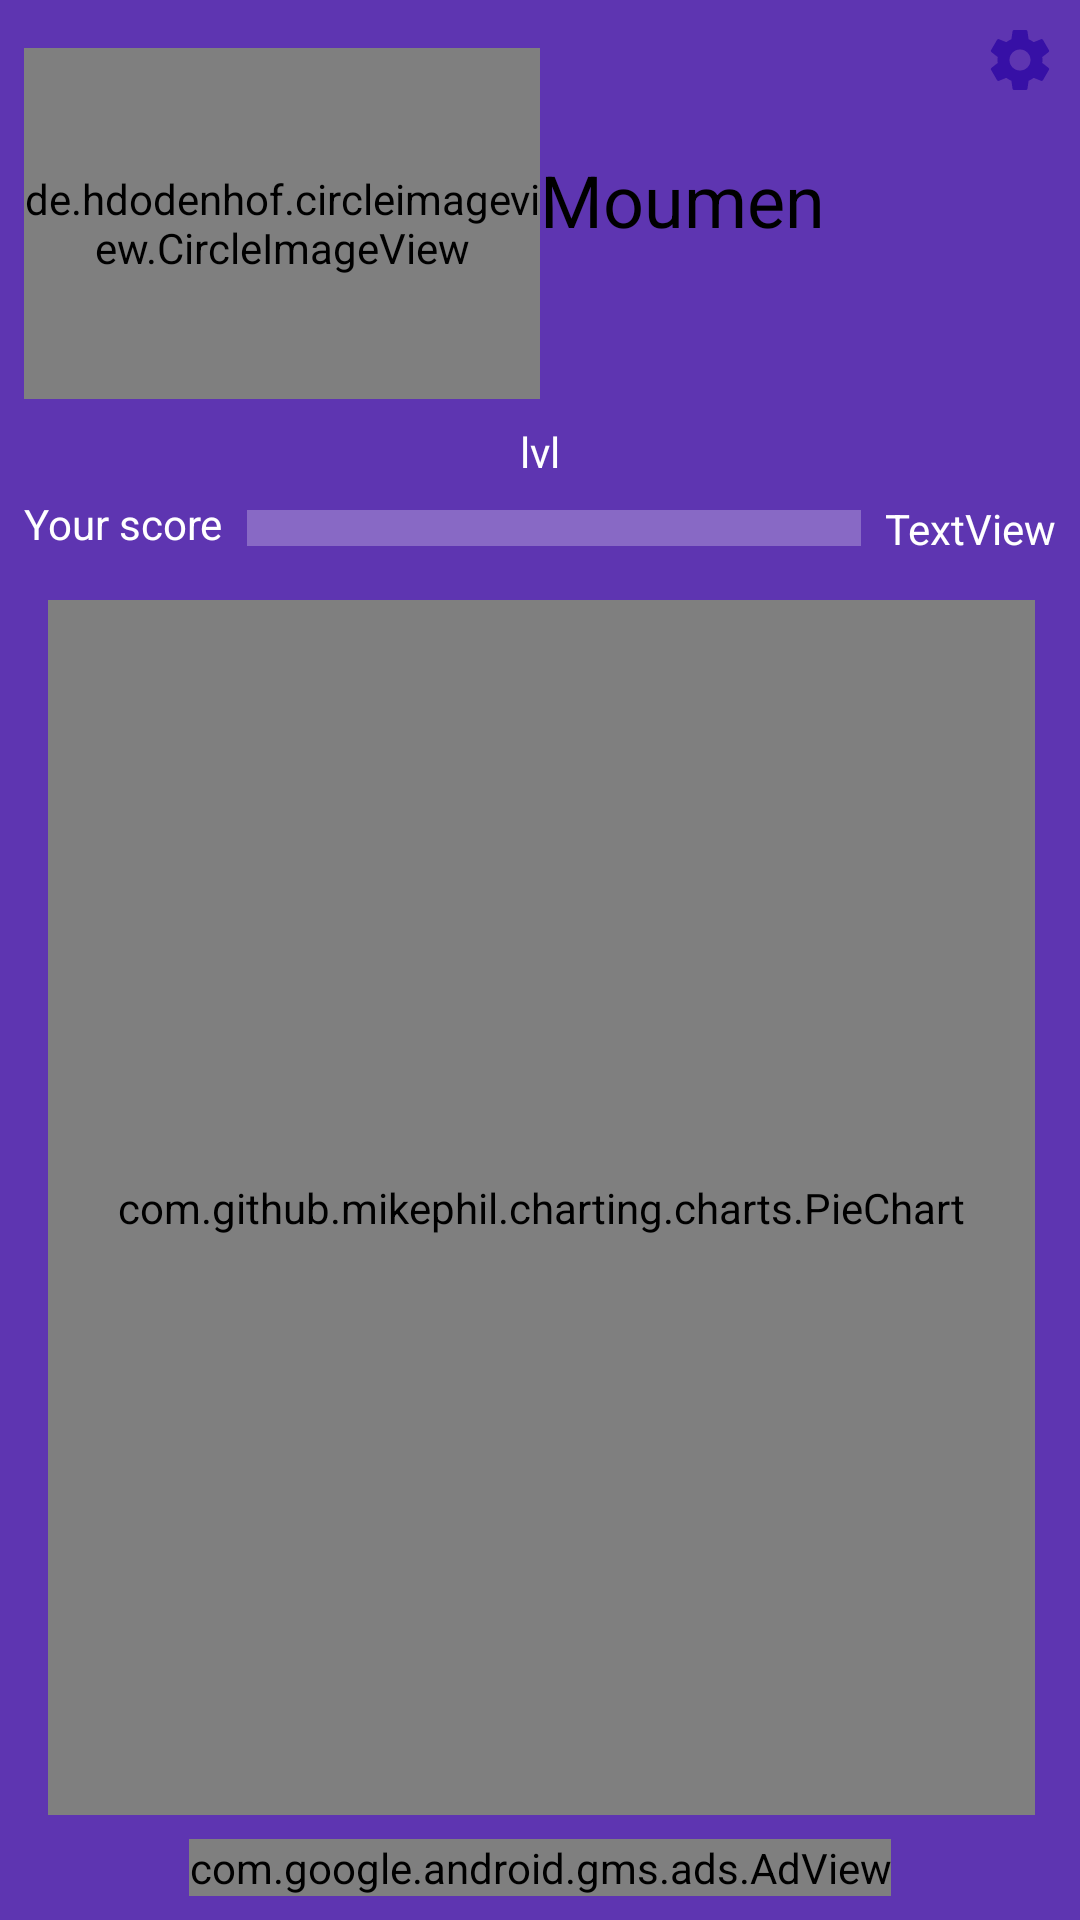

Where to tap for icons on this 1080×1920 app screen, as [x,y]:
settings: [1020,60]
